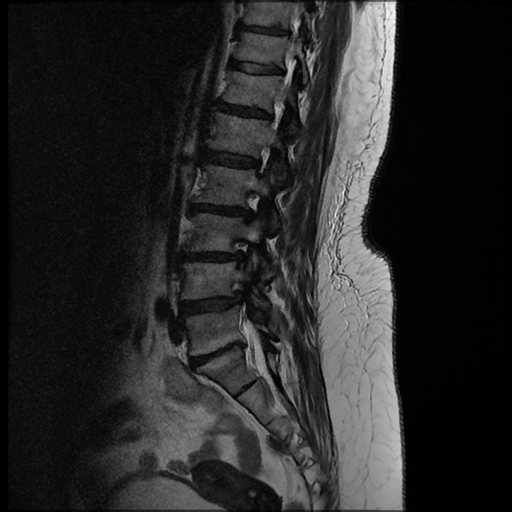RFS0: (243, 134, 279, 180)
RFS1: (232, 182, 270, 224)
RFS3: (222, 230, 257, 275)
